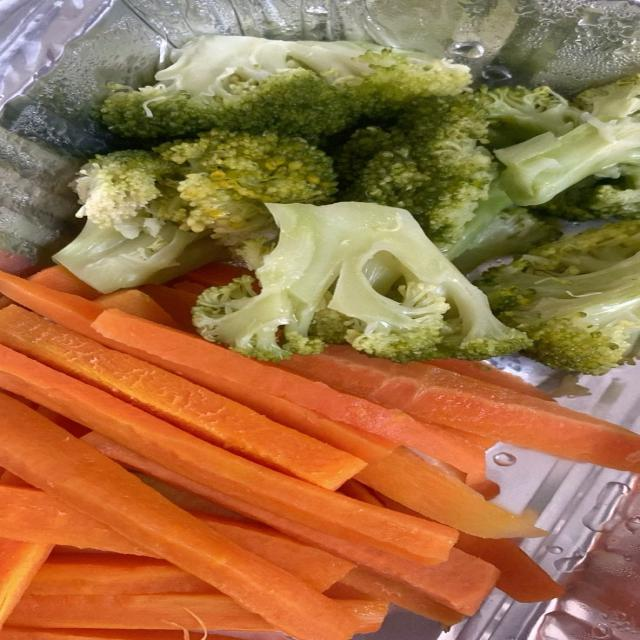broccoli: (193, 203, 530, 362), (54, 130, 336, 292), (100, 35, 470, 140), (477, 221, 639, 374), (336, 93, 495, 245), (54, 151, 224, 293), (495, 74, 639, 219), (156, 130, 337, 245), (495, 115, 639, 205), (54, 221, 227, 293), (441, 185, 560, 273), (73, 150, 179, 238), (479, 87, 581, 148), (540, 166, 639, 221), (574, 74, 639, 121)
carrot: (0, 344, 453, 562), (0, 393, 355, 640), (0, 276, 452, 466), (0, 307, 364, 489), (272, 344, 639, 471), (356, 447, 545, 538), (198, 514, 350, 589), (9, 594, 276, 631), (0, 486, 139, 554), (94, 290, 177, 327), (27, 265, 101, 299), (334, 600, 385, 633)
